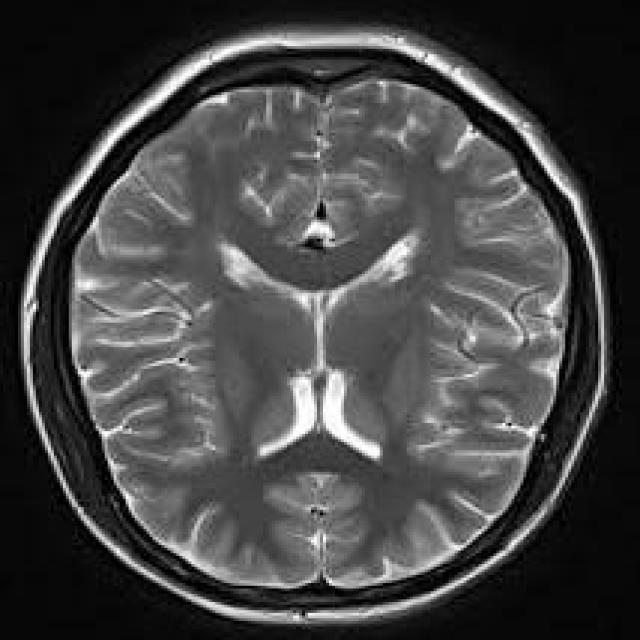notumor: (27, 27, 604, 618)
